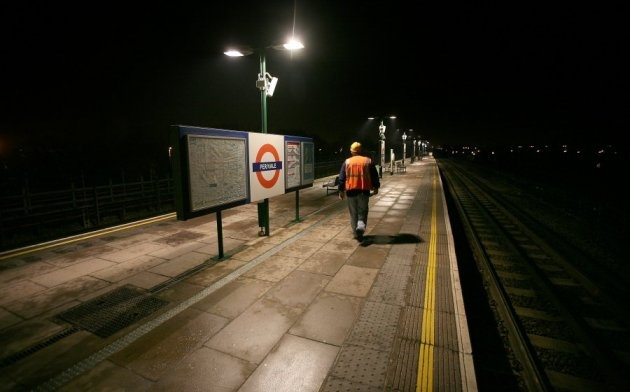yellow: (349, 141, 364, 158)
